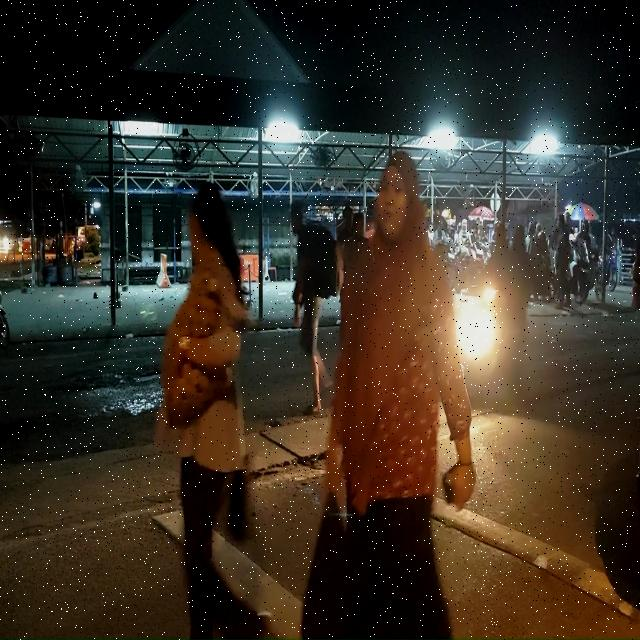Golongan II: (569, 236, 597, 304), (454, 245, 485, 293), (434, 239, 458, 289), (600, 250, 618, 292)
